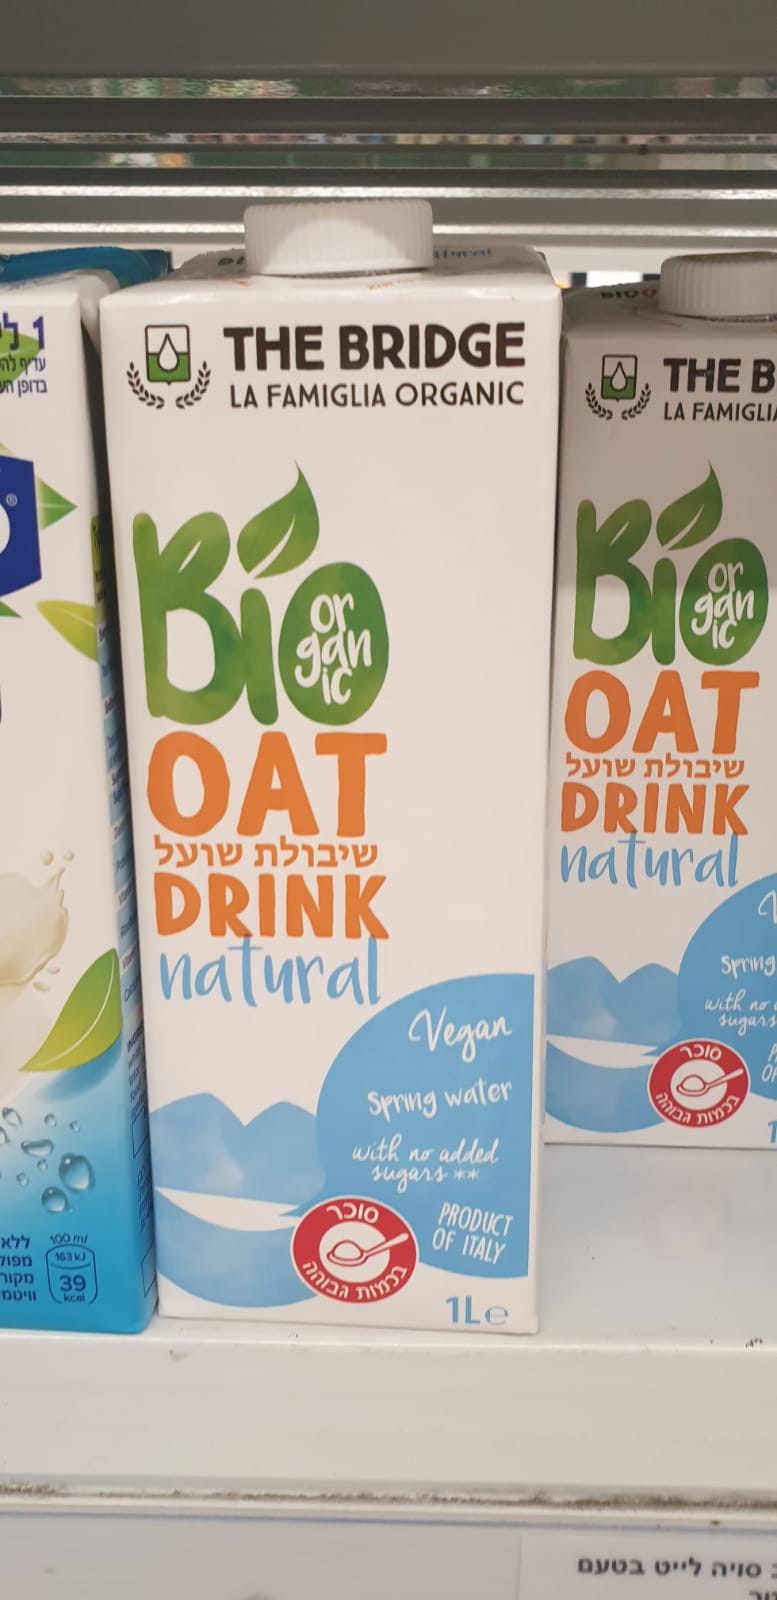sugar: (289, 1196, 420, 1306), (647, 1036, 750, 1131)
